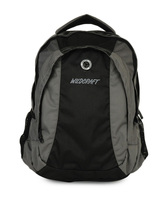bag: (16, 12, 153, 188)
